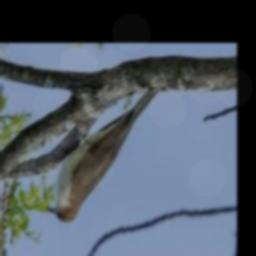Cuckoo: (47, 91, 160, 223)
